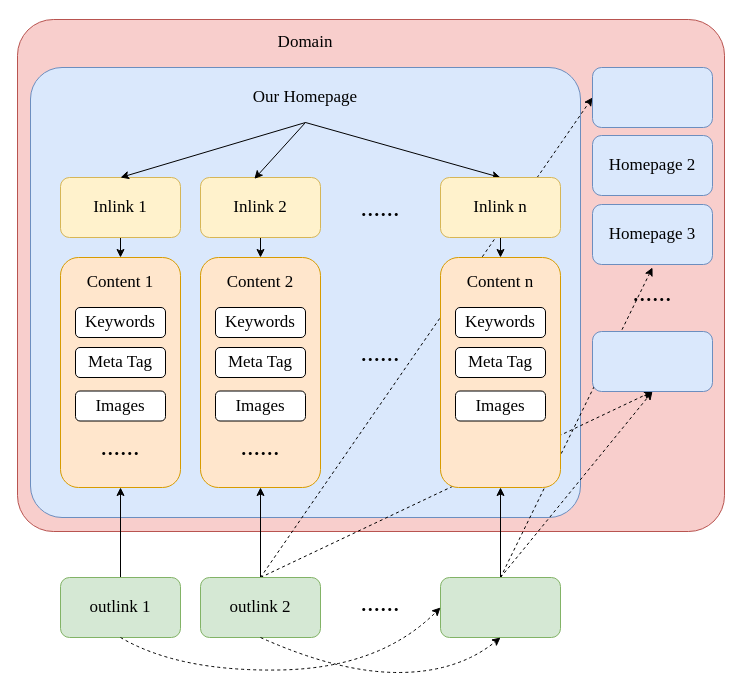
This 742x690 diagram has some shape labels left out. Here are the shapes that lost their labels. From the top down, the centre of each, then its label:
At point 652,97: "Homepage 1".
At point 652,361: "Homepage n".
At point 500,607: "outlink n".
